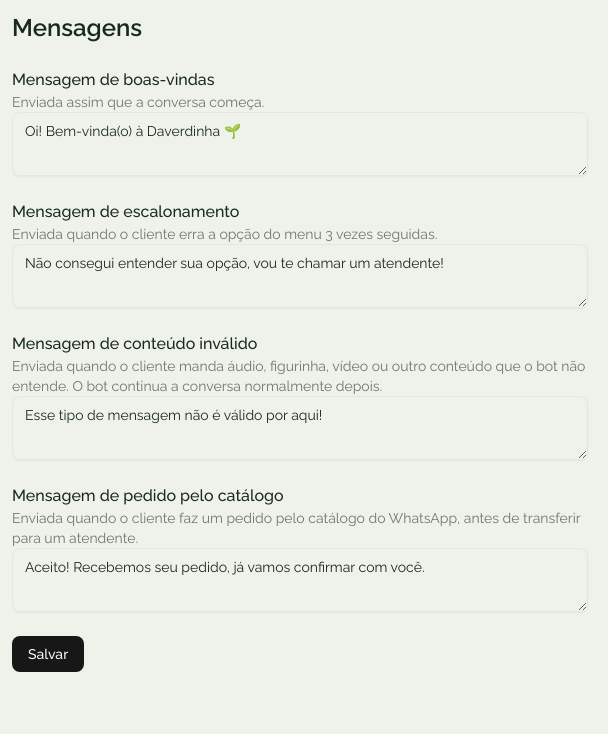
Test case: MensagensPage › saves the edited welcome message
The width and height of the screenshot is (608, 734).
Replace the text in the text box labelled "Mensagem de boas-vindas" with "Novo texto" at x=300, y=144, box [12, 112, 588, 176]
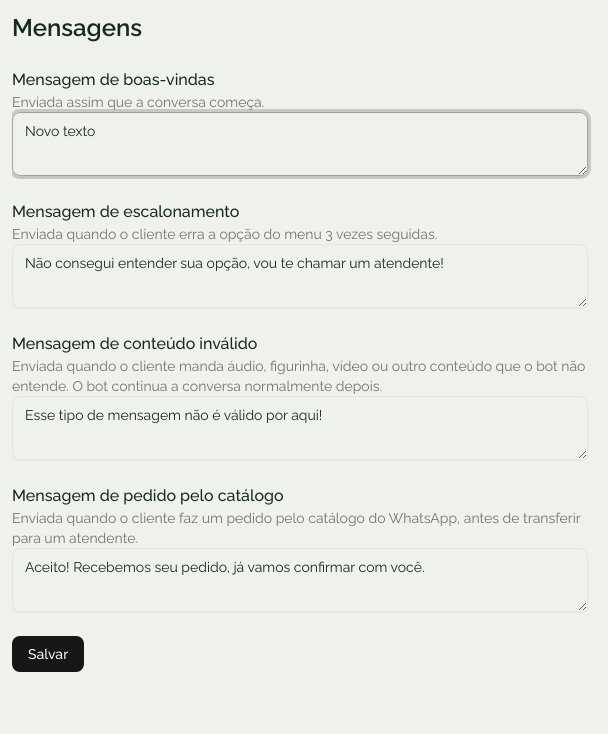
Click the button "Salvar" at x=48, y=654, box [12, 636, 84, 672]
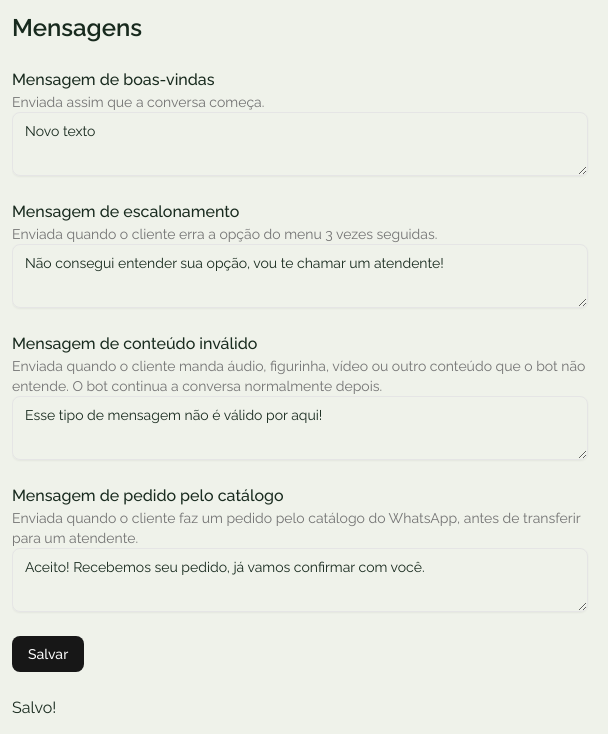
expect the message reads "Salvo!": met, box [12, 698, 56, 717]
